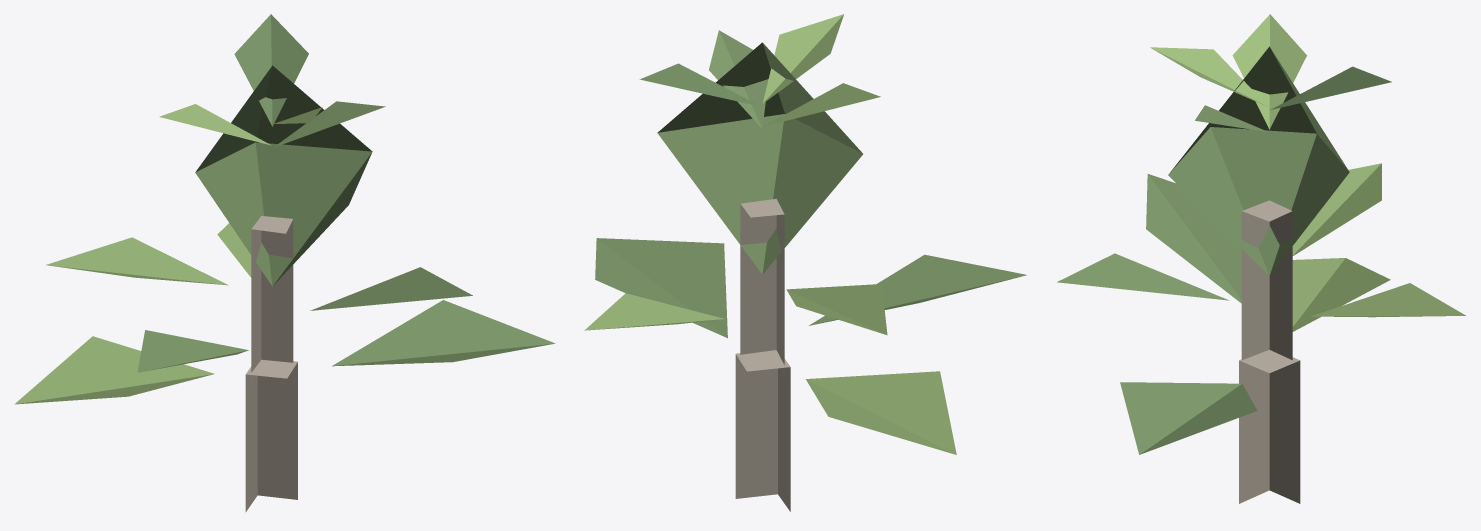
Rendered from shu.baigan@seedling__spring.glb.
The picture shows the model from 3 angles, left to right: view 1: azimuth 30°, elevation 25°; view 2: azimuth 150°, elevation 25°; view 3: azimuth 270°, elevation 25°; orthographic projection. The views are drawn at different scales.
Visible parts, largest first — view 1: shu.baigan@seedling__spring; view 2: shu.baigan@seedling__spring; view 3: shu.baigan@seedling__spring.
Part boxes in pixels (x1,y1,x2,y2): shu.baigan@seedling__spring: (14, 14, 555, 512); shu.baigan@seedling__spring: (584, 14, 1026, 511); shu.baigan@seedling__spring: (1057, 14, 1465, 503).
Bounding box in the file's own units: 1.36 × 1.29 × 1.05.
